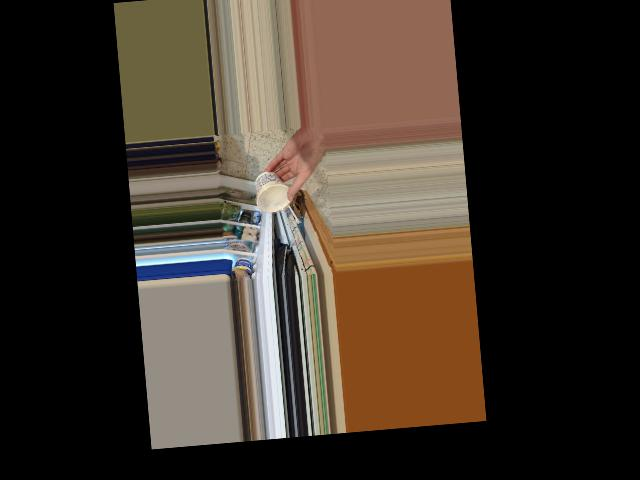cotage: (256, 171, 293, 208)
